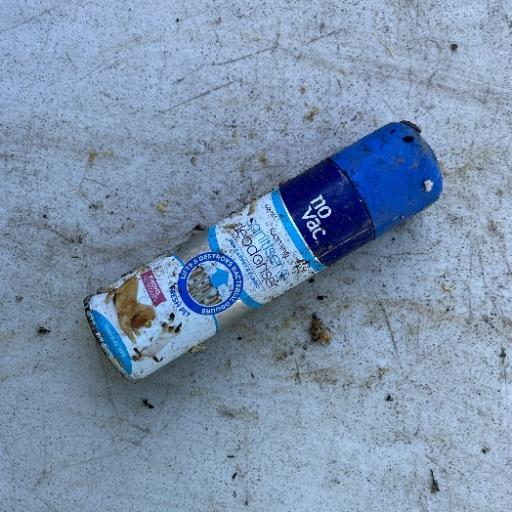Metal: (81, 117, 444, 384)
